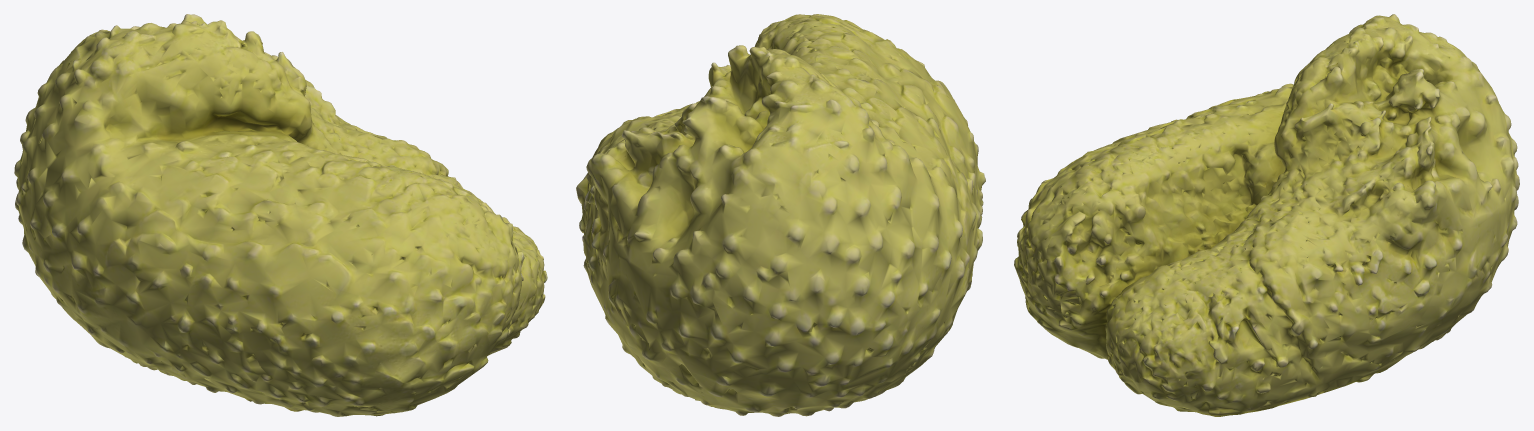
The model's file is g-wasabi.glb.
3 views of the same model, side by side, from view 1: azimuth 30°, elevation 25°; view 2: azimuth 150°, elevation 25°; view 3: azimuth 270°, elevation 25° (orthographic). The views are drawn at different scales.
Visible parts, largest first — view 1: tripo_node_74118357-0f9a-45c2-96f6-4b74c5a65193; view 2: tripo_node_74118357-0f9a-45c2-96f6-4b74c5a65193; view 3: tripo_node_74118357-0f9a-45c2-96f6-4b74c5a65193.
Part boxes in pixels (<box>): tripo_node_74118357-0f9a-45c2-96f6-4b74c5a65193: <box>14,14,547,416</box>; tripo_node_74118357-0f9a-45c2-96f6-4b74c5a65193: <box>576,14,985,416</box>; tripo_node_74118357-0f9a-45c2-96f6-4b74c5a65193: <box>1014,14,1519,416</box>.
Size of the model in its own units: 0.8381 by 0.6144 by 0.9812.
1 material, 1 textured.
